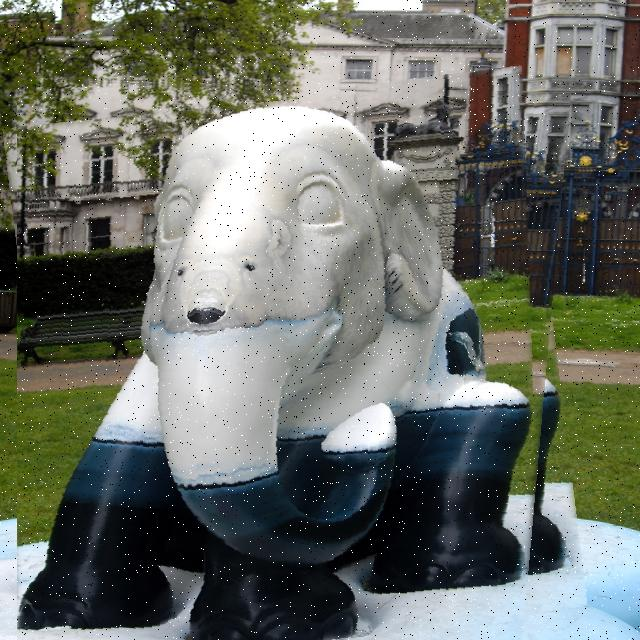elephant: (17, 80, 571, 640)
